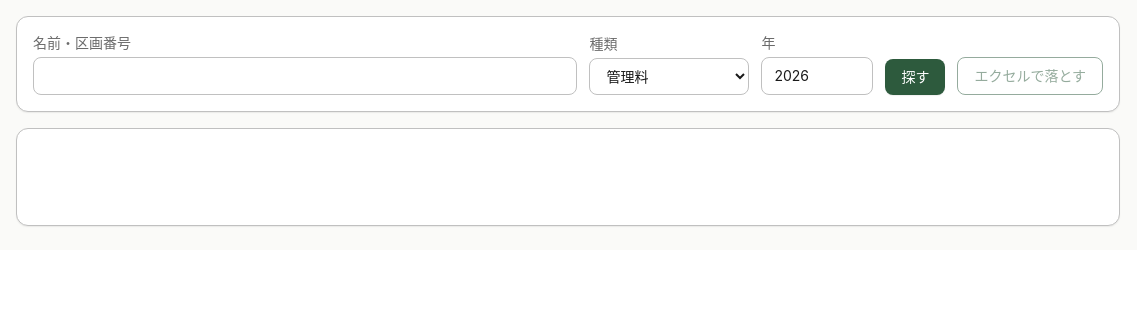
Scenario: CashierPaymentPage › 探すが失敗してメッセージ無しなら探せませんでしたを出し、保存メッセージは出さない
Step 1. Type "田中" into the field → (305, 76), box [33,57,577,95]
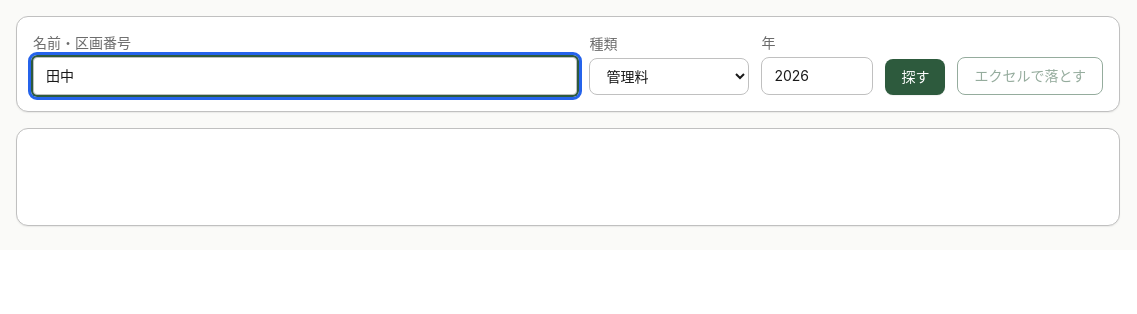
Step 2. Click the button "探す" → (915, 77), box [885,59,945,95]
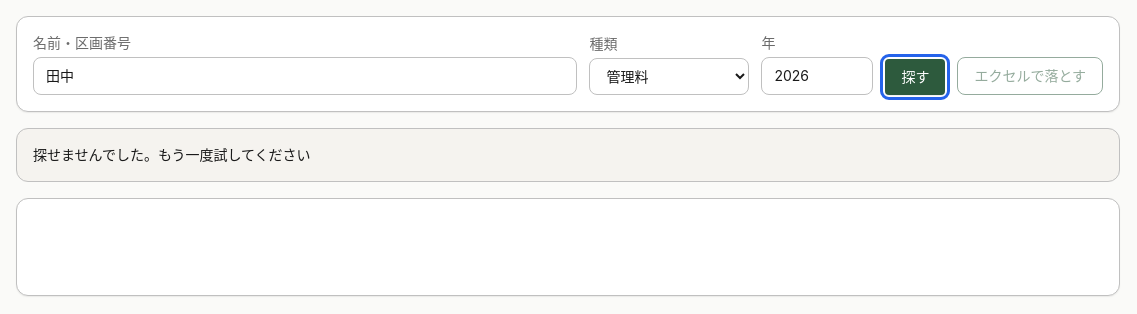
Expected: the text "探せませんでした。もう一度試してください" is shown, [16,128,1120,182]
